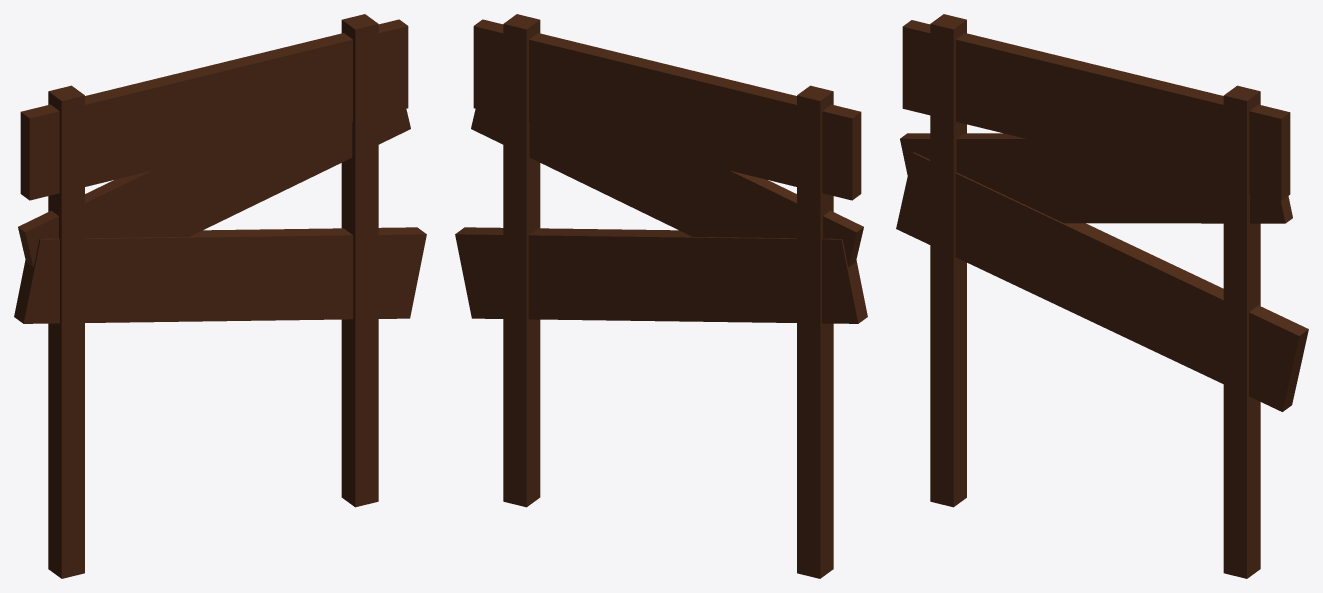
The model's file is slide_obstacle.fbx.
3 renders of one model, left to right at view 1: azimuth 30°, elevation 25°; view 2: azimuth 150°, elevation 25°; view 3: azimuth 330°, elevation 25°, orthographic.
Visible parts, largest first — view 1: Cube; view 2: Cube; view 3: Cube.
Boxes of the visible parts, x1,y1,x2,y2 form: Cube: [14, 14, 426, 578]; Cube: [455, 14, 867, 578]; Cube: [896, 14, 1308, 578].
Size of the model in its own units: 327 by 370 by 18.93.
